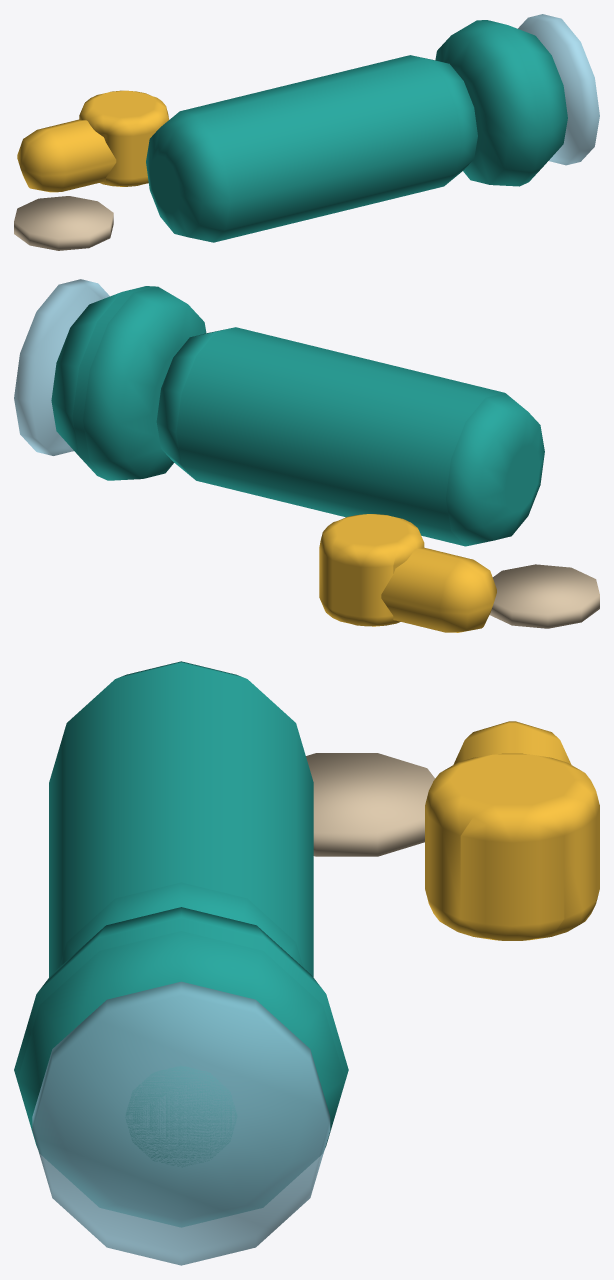
File: flashlight_whistle.glb
The picture shows the model from 3 angles, top to bottom: view 1: azimuth 30°, elevation 25°; view 2: azimuth 150°, elevation 25°; view 3: azimuth 270°, elevation 25°; orthographic projection. The views are drawn at different scales.
Parts seen in each view (by area): view 1: Torch, Head.001, Whistle, Lens, WhistleBall, Ring; view 2: Torch, Head.001, WhistleBall, Whistle, Lens, Ring; view 3: Head.001, Lens, Torch, WhistleBall, Ring, Whistle.
Part boxes in pixels (x1,y1,x2,y2): Torch: (146, 55, 477, 242); Head.001: (435, 20, 567, 186); Whistle: (17, 119, 116, 192); Lens: (518, 14, 599, 165); WhistleBall: (79, 90, 169, 186); Ring: (14, 196, 113, 250); Torch: (156, 327, 544, 546); Head.001: (51, 286, 206, 480); WhistleBall: (319, 514, 424, 626); Whistle: (381, 547, 496, 632); Lens: (14, 279, 109, 455); Ring: (489, 564, 599, 628); Head.001: (14, 907, 348, 1226); Lens: (32, 981, 330, 1265); Torch: (49, 661, 313, 977); WhistleBall: (425, 753, 599, 940); Ring: (306, 753, 435, 856); Whistle: (453, 721, 571, 764).
Bounding box in the file's own units: 0.3385 × 0.1011 × 0.177.
